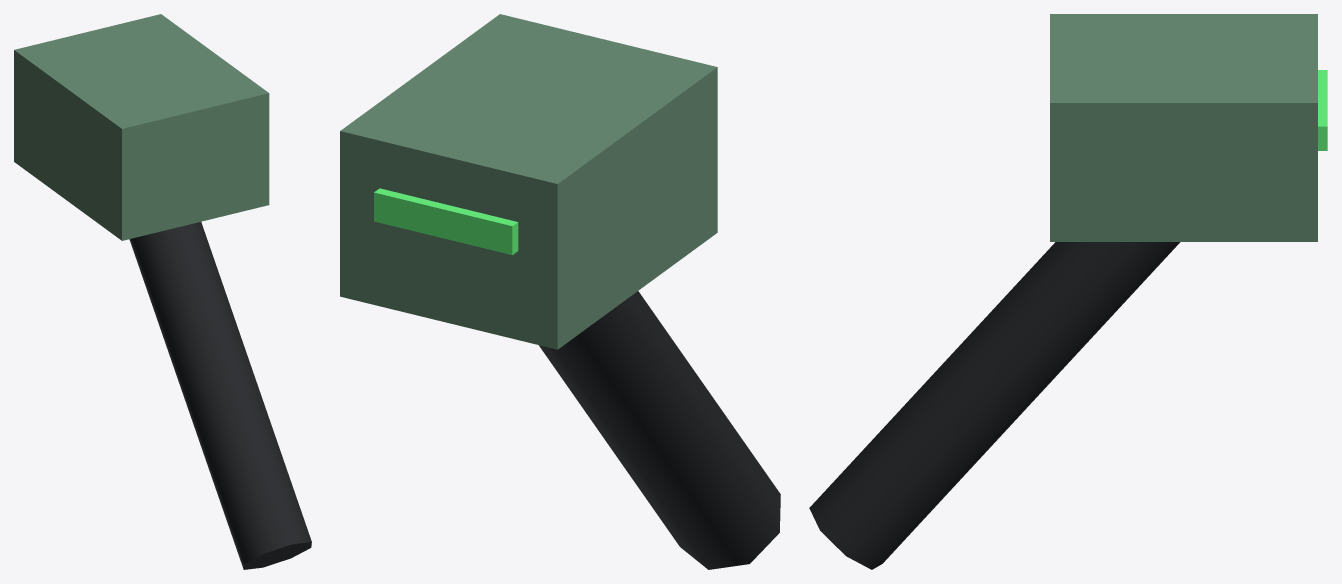
The model's file is boss_hydra_head.obj.
The picture shows the model from 3 angles, left to right: view 1: azimuth 30°, elevation 25°; view 2: azimuth 150°, elevation 25°; view 3: azimuth 270°, elevation 25°; orthographic projection. The views are drawn at different scales.
Parts seen in each view (by area): view 1: head, neck; view 2: head, neck, eye; view 3: head, neck, eye.
Boxes of the visible parts, left/top/right/bottom form: head: left=14, top=14, right=269, bottom=240; neck: left=129, top=222, right=311, bottom=569; head: left=340, top=14, right=717, bottom=349; neck: left=539, top=291, right=780, bottom=569; eye: left=374, top=188, right=518, bottom=255; head: left=1050, top=14, right=1317, bottom=241; neck: left=809, top=242, right=1180, bottom=569; eye: left=1318, top=70, right=1327, bottom=150.
Bounding box in the file's own units: 0.55 × 1.45 × 1.35.
